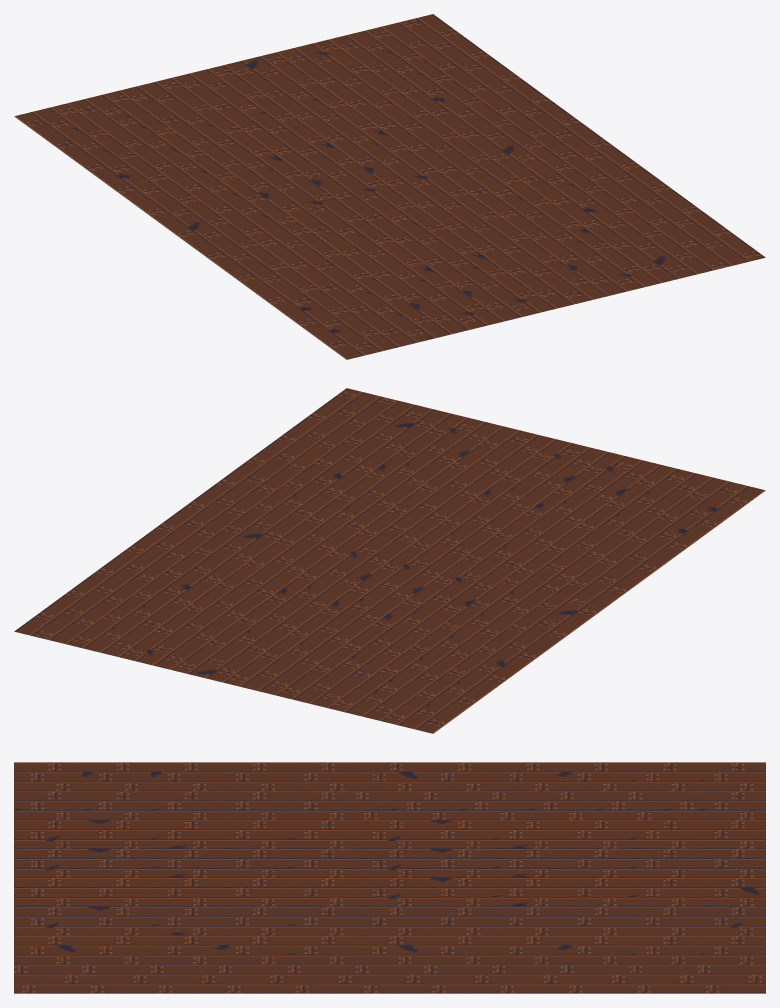
Rendered from Dungeon.obj.
3 views of the same model, one above another, from view 1: azimuth 30°, elevation 25°; view 2: azimuth 150°, elevation 25°; view 3: azimuth 270°, elevation 25° (orthographic). The views are drawn at different scales.
Visible parts, largest first — view 1: Default; view 2: Default; view 3: Default.
Boxes of the visible parts, x1,y1,x2,y2 form: Default: (14,14,765,359); Default: (14,388,765,733); Default: (14,762,765,993).
Size of the model in its own units: 16 by 0.00239 by 22.
1 material, 1 textured.
